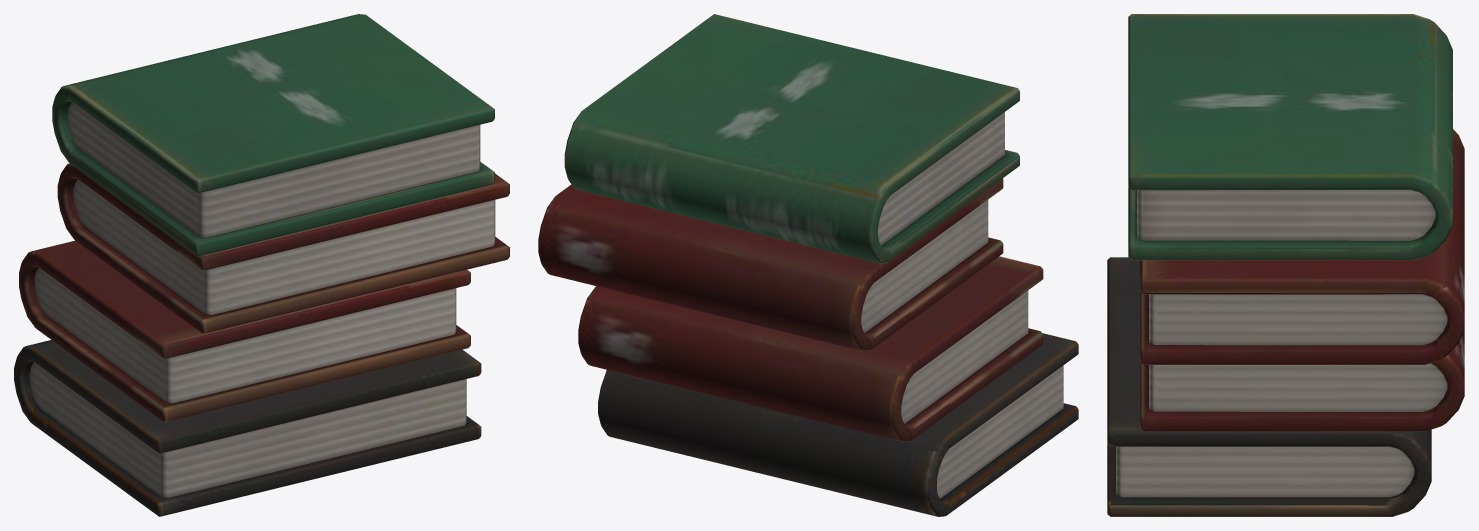
Rendered from SM_Book001_stack03.glb.
3 views of the same model, side by side, from view 1: azimuth 30°, elevation 25°; view 2: azimuth 150°, elevation 25°; view 3: azimuth 270°, elevation 25° (orthographic). The views are drawn at different scales.
Visible parts, largest first — view 1: SM_Book001_stack03; view 2: SM_Book001_stack03; view 3: SM_Book001_stack03.
Boxes of the visible parts, box(x1,y1,x2,y2) form: SM_Book001_stack03: box(14, 14, 509, 516); SM_Book001_stack03: box(538, 14, 1078, 516); SM_Book001_stack03: box(1107, 14, 1464, 516).
Bounding box in the file's own units: 0.4533 × 0.3758 × 0.3428.
1 material, 1 textured.
